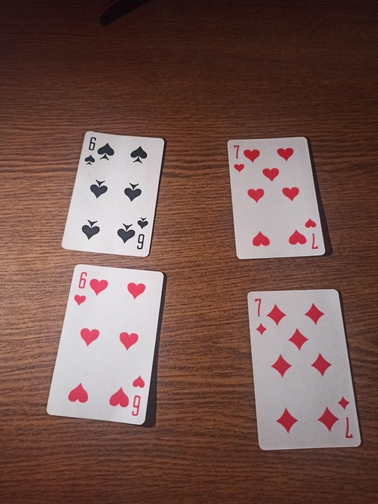sevendiamonds: (243, 288, 363, 450)
sevenhearts: (224, 135, 326, 260)
sixhearts: (45, 265, 160, 425)
sixspades: (62, 130, 162, 257)
